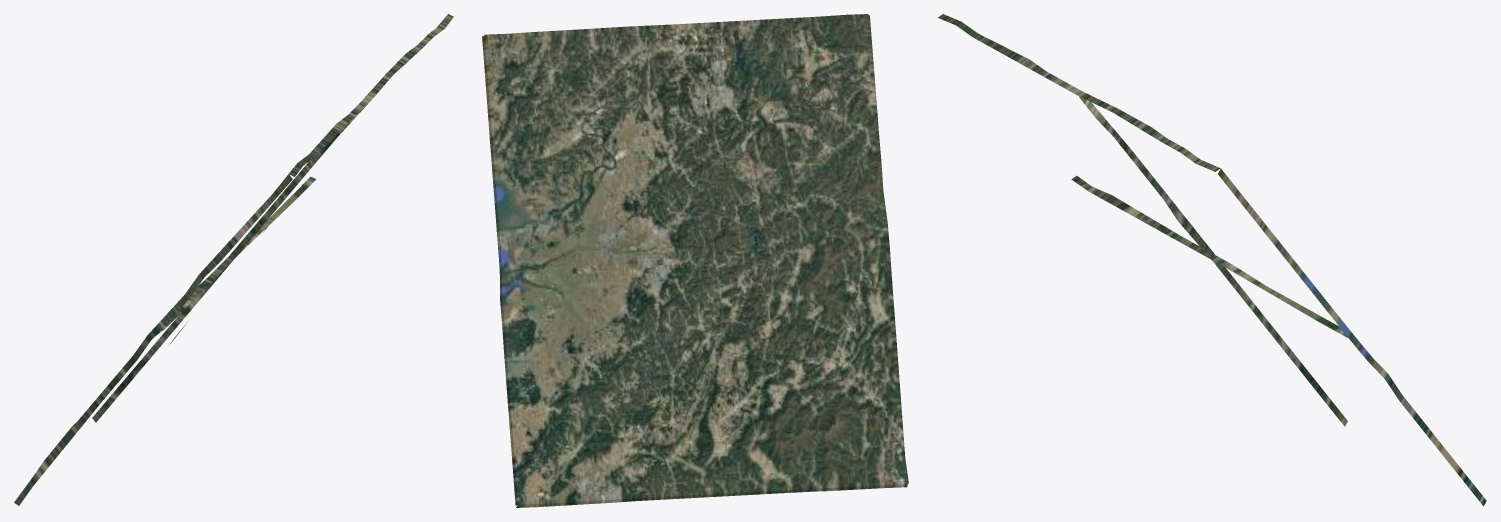
The picture shows the model from 3 angles, left to right: view 1: azimuth 30°, elevation 25°; view 2: azimuth 150°, elevation 25°; view 3: azimuth 270°, elevation 25°; orthographic projection. The views are drawn at different scales.
Size of the model in its own units: 158695 by 129497 by 151900.
Materials: 1 (1 with a texture image).
